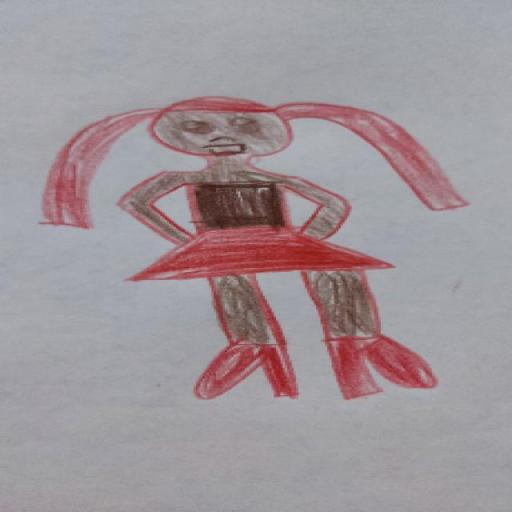person: (34, 81, 476, 453)
